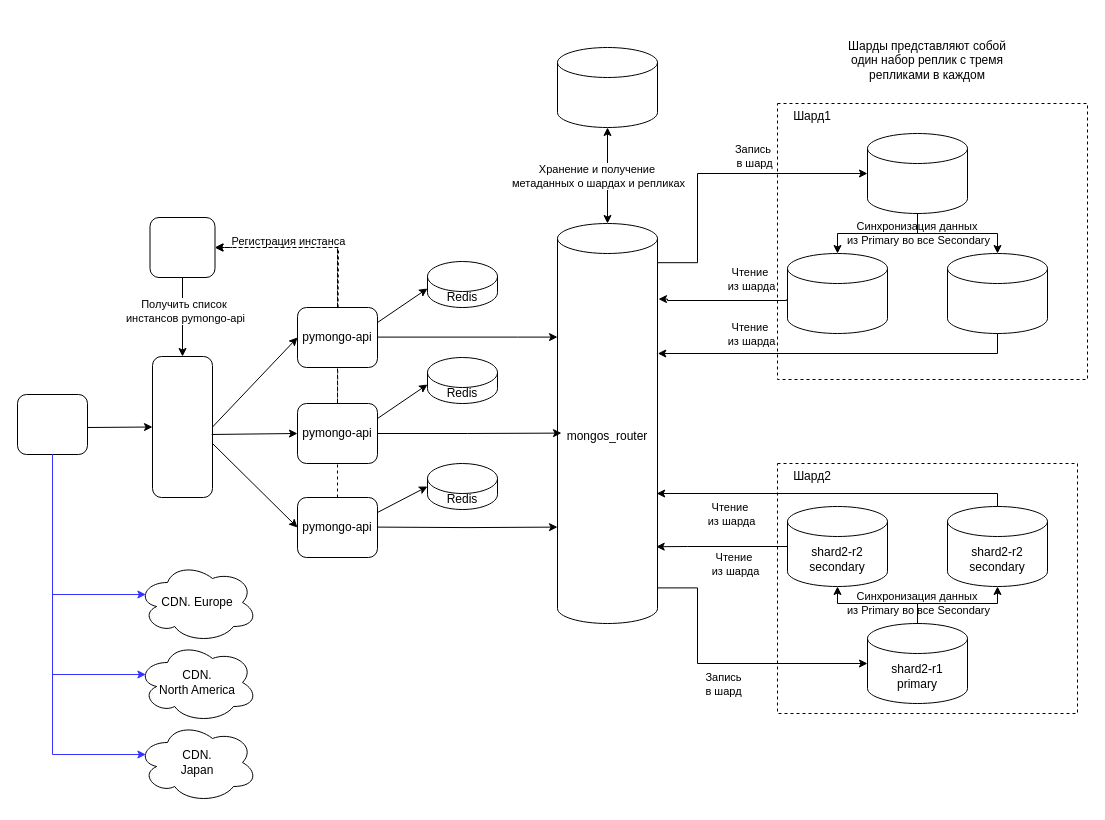
Some shapes in this 1105 by 820 pixel diagram are drawn without their labels. Here are the shapes that lost their labels. From the top down, the box of each, then its label:
(556, 46, 658, 128): configSrv
(866, 132, 968, 214): shard1-r1 primary
(149, 216, 215, 278): Consul
(786, 252, 888, 334): shard1-r2 secondary
(946, 252, 1048, 334): shard1-r3 secondary
(16, 394, 88, 454): Web Frontend
(152, 356, 212, 498): API Gateway
